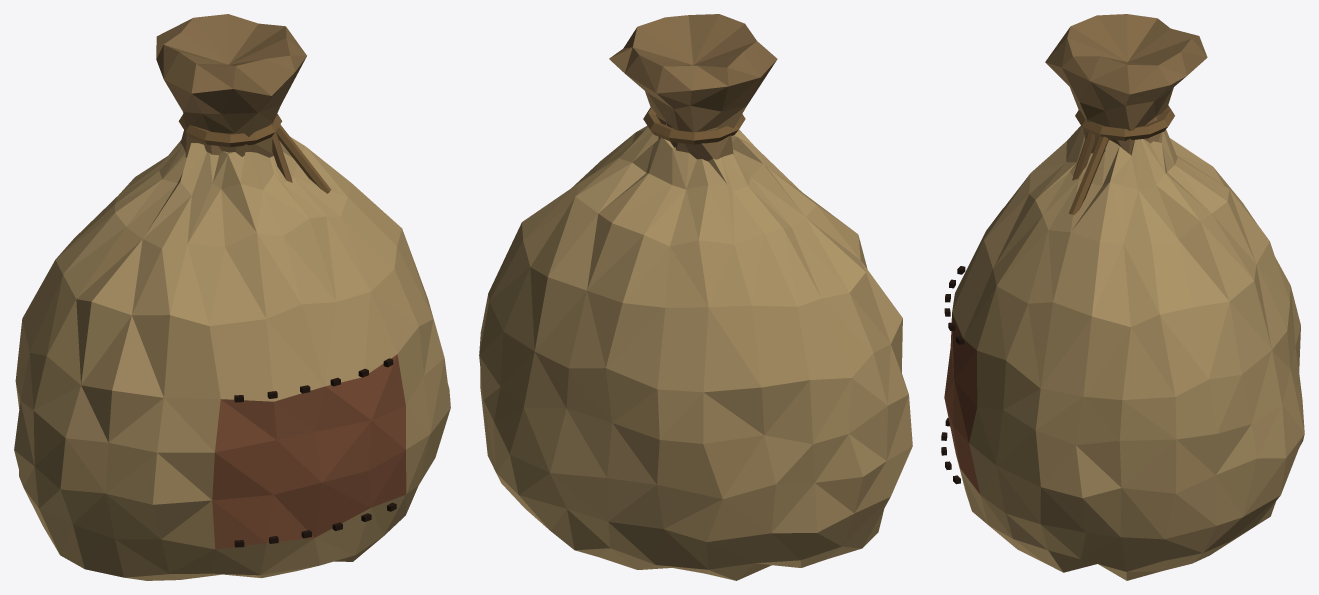
Rendered from sack.obj.
3 views of the same model, side by side, from view 1: azimuth 30°, elevation 25°; view 2: azimuth 150°, elevation 25°; view 3: azimuth 270°, elevation 25° (orthographic). The views are drawn at different scales.
Parts seen in each view (by area): view 1: lathe, lathe.001, torus, lathe.002; view 2: lathe, lathe.001, torus; view 3: lathe, lathe.001, torus, lathe.002.
Part boxes in pixels (x1,y1,x2,y2): lathe: (14,136,450,580); lathe.001: (156,14,306,157); torus: (178,113,282,147); lathe.002: (276,124,330,193); lathe: (479,125,912,580); lathe.001: (609,14,777,161); torus: (643,108,745,144); lathe: (944,126,1304,580); lathe.001: (1045,14,1207,154); torus: (1075,105,1174,140); lathe.002: (1069,136,1109,215).
Size of the model in its own units: 0.5078 by 0.6163 by 0.4207.
